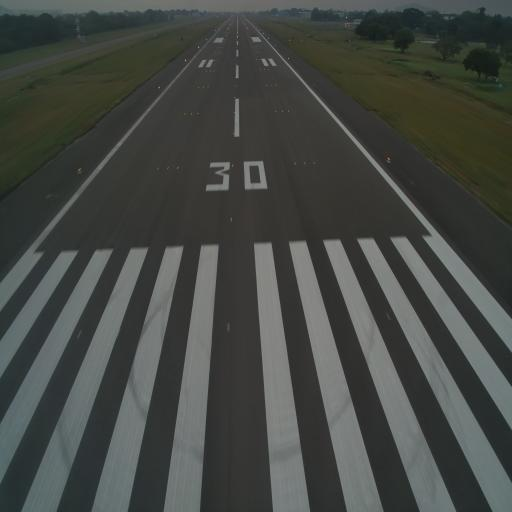on: (224, 321, 231, 334), (228, 214, 234, 225), (76, 166, 83, 174), (311, 158, 317, 167), (386, 154, 391, 164), (175, 164, 180, 172), (302, 159, 306, 167), (231, 162, 235, 169), (156, 165, 160, 172), (166, 166, 170, 172), (293, 161, 297, 167)
